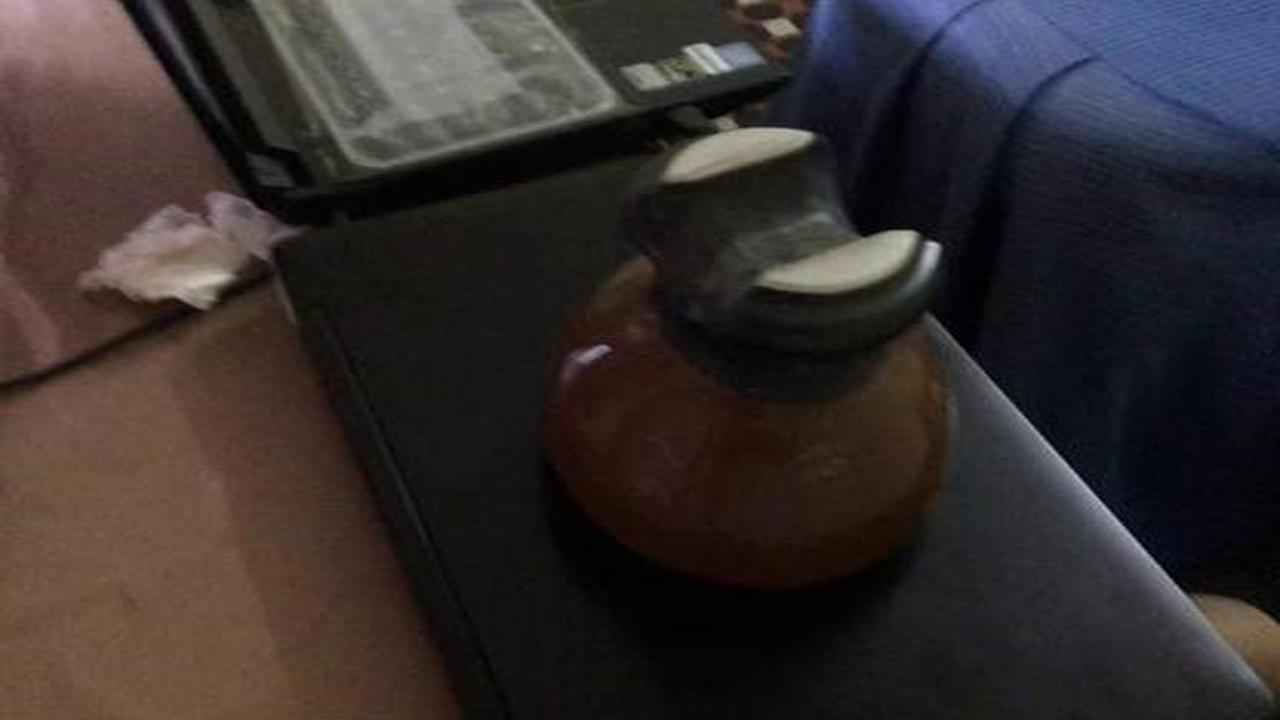insulator_pin: (524, 113, 976, 613)
